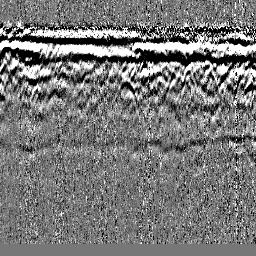cavity: (112, 76, 139, 108)
